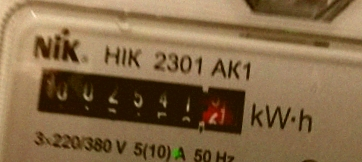0: (50, 75, 71, 103), (78, 75, 95, 104)
1: (178, 86, 194, 114)
2: (102, 78, 121, 105)
4: (154, 84, 170, 108)
5: (127, 80, 148, 110)
6: (204, 106, 221, 126)
screen: (22, 50, 262, 149)
